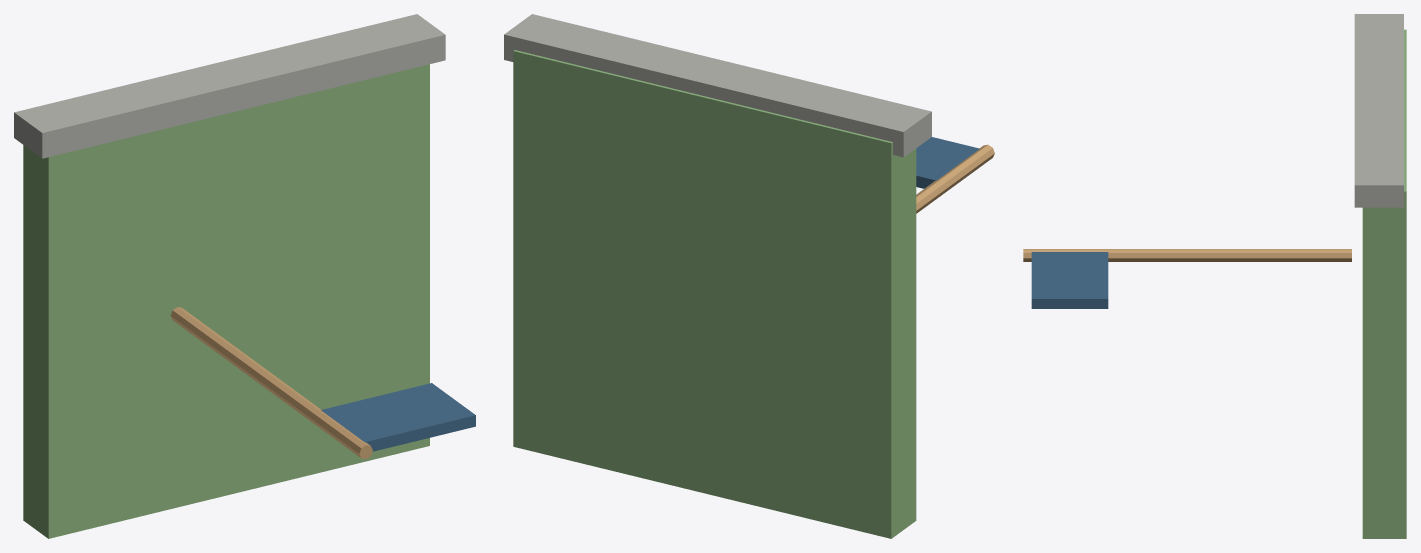
Rendered from 17_CoHieuXanh.glb.
3 views of the same model, side by side, from view 1: azimuth 30°, elevation 25°; view 2: azimuth 150°, elevation 25°; view 3: azimuth 270°, elevation 25° (orthographic). The views are drawn at different scales.
Parts seen in each view (by area): view 1: base, edge, flag, pole; view 2: base, edge, flag, pole; view 3: base, edge, flag, pole.
Boxes of the visible parts, x1=… form: base: x1=23, y1=64, x2=429, y2=538; edge: x1=14, y1=14, x2=445, y2=158; flag: x1=321, y1=383, x2=475, y2=451; pole: x1=170, y1=307, x2=372, y2=459; base: x1=513, y1=50, x2=916, y2=538; edge: x1=504, y1=14, x2=931, y2=157; flag: x1=916, y1=137, x2=979, y2=188; pole: x1=916, y1=144, x2=994, y2=213; base: x1=1362, y1=29, x2=1406, y2=538; edge: x1=1354, y1=14, x2=1403, y2=207; flag: x1=1031, y1=252, x2=1108, y2=308; pole: x1=1023, y1=249, x2=1351, y2=261.
Size of the model in its own units: 1.48 by 1.44 by 1.4.
